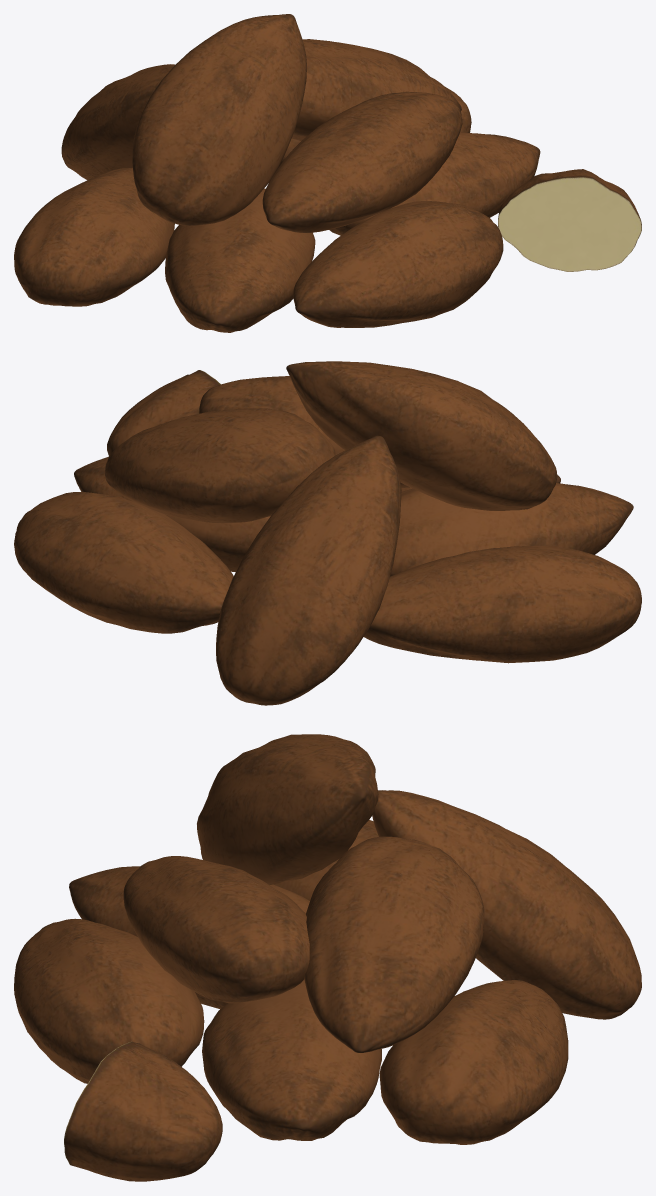
File: almonds.glb
3 renders of one model, top to bottom at view 1: azimuth 30°, elevation 25°; view 2: azimuth 150°, elevation 25°; view 3: azimuth 270°, elevation 25°, orthographic. The views are drawn at different scales.
Parts seen in each view (by area): view 1: Almond_low; view 2: Almond_low; view 3: Almond_low.
Boxes of the visible parts, x1,y1,x2,y2 form: Almond_low: (14,14,641,332); Almond_low: (14,361,641,705); Almond_low: (14,734,641,1181).
Bounding box in the file's own units: 0.5553 × 0.2229 × 0.4689.
1 material, 1 textured.
